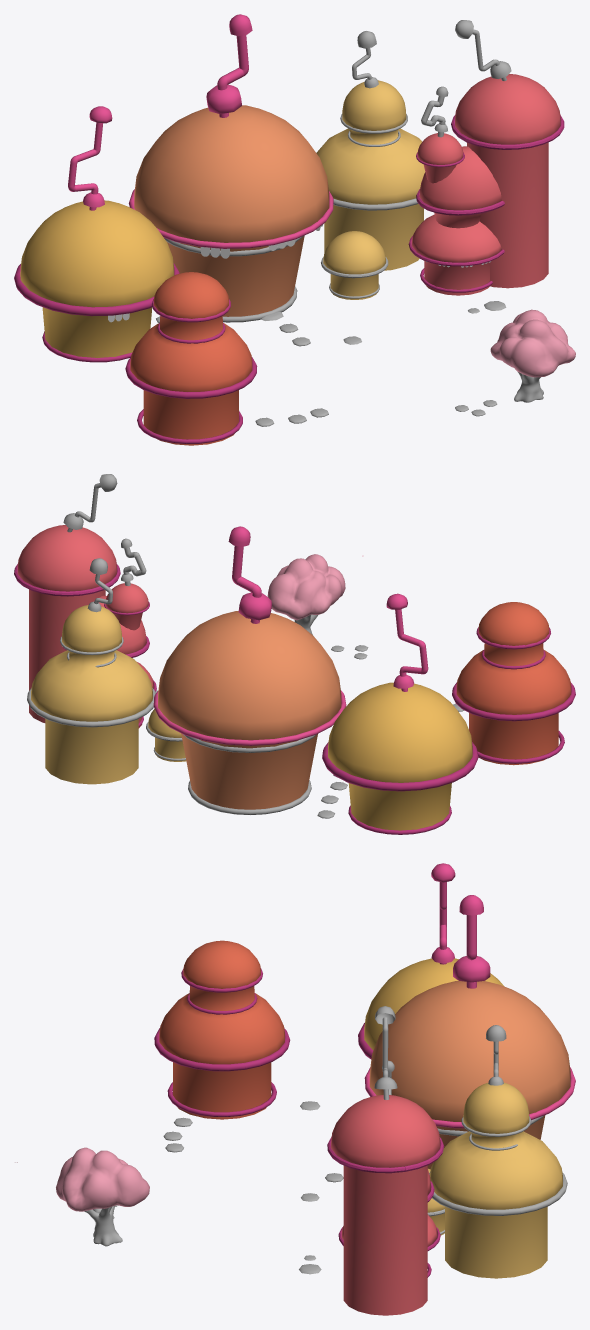
The model's file is castle_townHouses.fbx.
3 views of the same model, one above another, from view 1: azimuth 30°, elevation 25°; view 2: azimuth 150°, elevation 25°; view 3: azimuth 270°, elevation 25° (orthographic). The views are drawn at different scales.
Parts seen in each view (by area): view 1: pasted__pSphere17, pasted__pSphere16, pasted__pSphere4, pasted__pSphere5, pasted__pSphere3, candyCatle_Inside4:pasted__pasted__PM3D_Sphere3D12, pCylinder97, pCylinder106, pCylinder98, pipes:Sweep, pSphere6, pCylinder105 (+5 smaller); view 2: pasted__pSphere17, pasted__pSphere5, pasted__pSphere4, pasted__pSphere3, pasted__pSphere16, candyCatle_Inside4:pasted__pasted__PM3D_Sphere3D12, pCylinder97, pCylinder106, pCylinder98, pCylinder100, pCylinder109, pipes:Sweep (+6 smaller); view 3: pasted__pSphere17, pasted__pSphere16, pasted__pSphere5, pasted__pSphere3, candyCatle_Inside4:pasted__pasted__PM3D_Sphere3D12, pasted__pSphere4, pCylinder98, pCylinder100, candyCatle_Inside4:pasted__pasted__PM3D_ZSphere3, pSphere6, pCylinder105, pCylinder106 (+1 smaller).
Part boxes in pixels (box(x1,y1,x2,y2)): pasted__pSphere17: box(134, 105, 329, 316); pasted__pSphere16: box(411, 74, 560, 295); pasted__pSphere4: box(20, 200, 174, 357); pasted__pSphere5: box(316, 80, 425, 299); pasted__pSphere3: box(130, 272, 252, 445); candyCatle_Inside4:pasted__pasted__PM3D_Sphere3D12: box(490, 309, 575, 377); pCylinder97: box(14, 263, 179, 316); pCylinder106: box(128, 189, 333, 248); pCylinder98: box(125, 357, 257, 398); pipes:Sweep: box(68, 122, 103, 210); pSphere6: box(206, 84, 241, 114); pCylinder105: box(451, 115, 564, 149); pasted__pSphere17: box(158, 611, 341, 809); pasted__pSphere5: box(31, 605, 186, 784); pasted__pSphere4: box(328, 682, 472, 830); pasted__pSphere3: box(456, 602, 571, 765); pasted__pSphere16: box(17, 525, 153, 728); candyCatle_Inside4:pasted__pasted__PM3D_Sphere3D12: box(267, 554, 345, 620); pCylinder97: box(322, 742, 478, 791); pCylinder106: box(153, 690, 346, 745); pCylinder98: box(452, 682, 575, 721); pCylinder100: box(27, 688, 155, 727); pCylinder109: box(188, 780, 311, 814); pipes:Sweep: box(395, 609, 428, 691); pasted__pSphere17: box(369, 981, 570, 1169); pasted__pSphere16: box(331, 1095, 440, 1315); pasted__pSphere5: box(427, 1082, 562, 1278); pasted__pSphere3: box(159, 940, 284, 1119); candyCatle_Inside4:pasted__pasted__PM3D_Sphere3D12: box(56, 1147, 149, 1211); pasted__pSphere4: box(364, 958, 504, 1050); pCylinder98: box(154, 1028, 290, 1071); pCylinder100: box(429, 1172, 567, 1215); candyCatle_Inside4:pasted__pasted__PM3D_ZSphere3: box(84, 1206, 122, 1246); pSphere6: box(453, 956, 490, 982); pCylinder105: box(327, 1137, 444, 1173); pCylinder106: box(364, 1067, 575, 1128).
Bounding box in the file's own units: 144 × 76.3 × 135.
